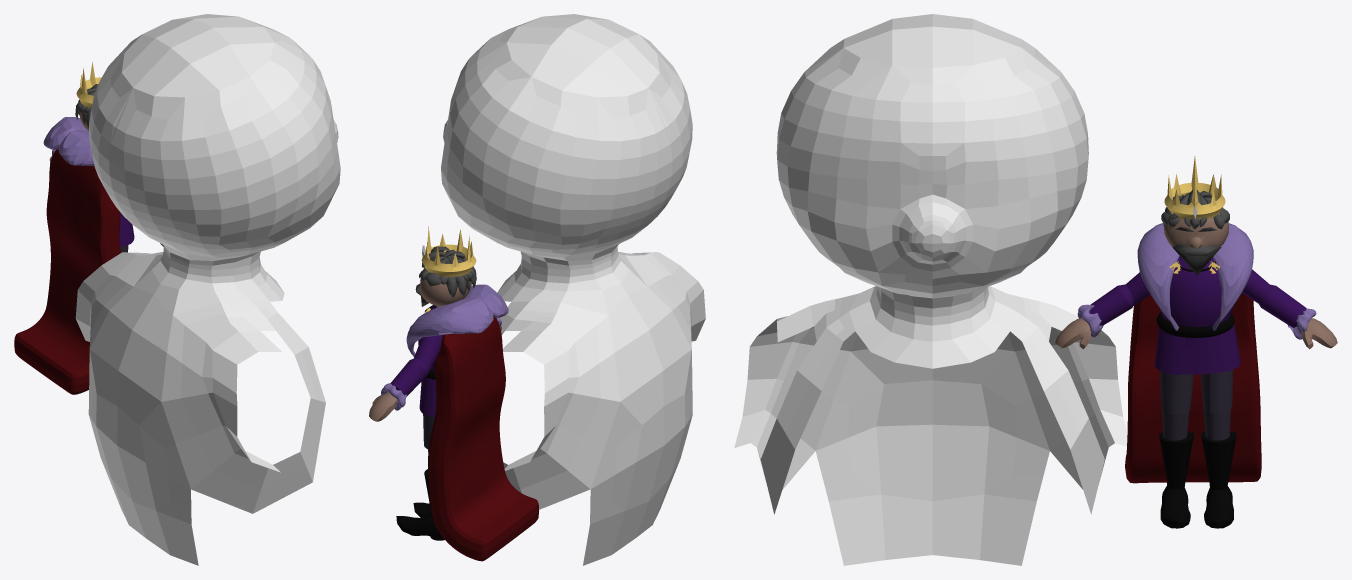
Rendered from !The_King_Final_file!.fbx.
The picture shows the model from 3 angles, left to right: view 1: azimuth 30°, elevation 25°; view 2: azimuth 150°, elevation 25°; view 3: azimuth 270°, elevation 25°; orthographic projection. The views are drawn at different scales.
Visible parts, largest first — view 1: Plane, Cloak, Sphere.001, Torus; view 2: Plane, Cloak, Sphere.001, Cylinder.003, RetopologyBase.011, Torus, NurbsPath.003, Cylinder.004, Chestplate.001; view 3: Plane, Cloak, Cylinder.004, Sphere.001, Pants, Chestplate, Chestplate.001, RetopologyBase.011, Torus, Cylinder.003, Cylinder.002, NurbsPath.003 (+1 smaller).
Part boxes in pixels (x1,y1,x2,y2): Plane: [75, 14, 340, 565]; Cloak: [14, 149, 121, 394]; Sphere.001: [43, 117, 94, 165]; Torus: [76, 61, 101, 108]; Plane: [441, 14, 705, 565]; Cloak: [428, 317, 538, 561]; Sphere.001: [406, 284, 508, 356]; Cylinder.003: [390, 335, 442, 396]; RetopologyBase.011: [369, 256, 501, 421]; Torus: [421, 226, 476, 276]; NurbsPath.003: [420, 246, 476, 297]; Cylinder.004: [396, 469, 444, 540]; Chestplate.001: [419, 377, 436, 417]; Plane: [734, 14, 1127, 565]; Cloak: [1125, 293, 1261, 483]; Cylinder.004: [1159, 432, 1236, 528]; Sphere.001: [1137, 223, 1253, 330]; Pants: [1160, 370, 1233, 440]; Chestplate: [1160, 256, 1233, 346]; Chestplate.001: [1154, 324, 1240, 374]; RetopologyBase.011: [1055, 213, 1337, 349]; Torus: [1164, 156, 1225, 219]; Cylinder.003: [1242, 269, 1306, 327]; Cylinder.002: [1089, 272, 1150, 325]; NurbsPath.003: [1161, 190, 1229, 229].
Size of the model in its own units: 157 by 331 by 318.
